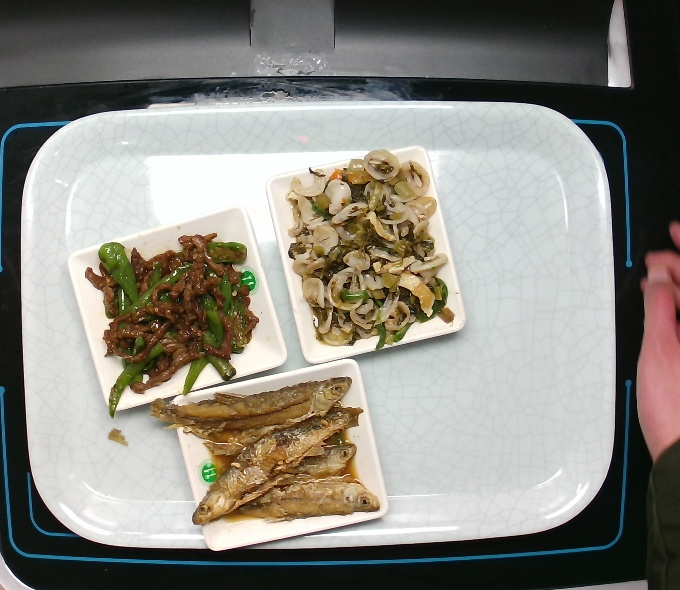wcq-QingJiaoNiuRou: (79, 222, 264, 405)
wcq-XiaoXiYu: (150, 374, 392, 530)
wcq-XueCaiYouYu: (279, 145, 451, 364)
